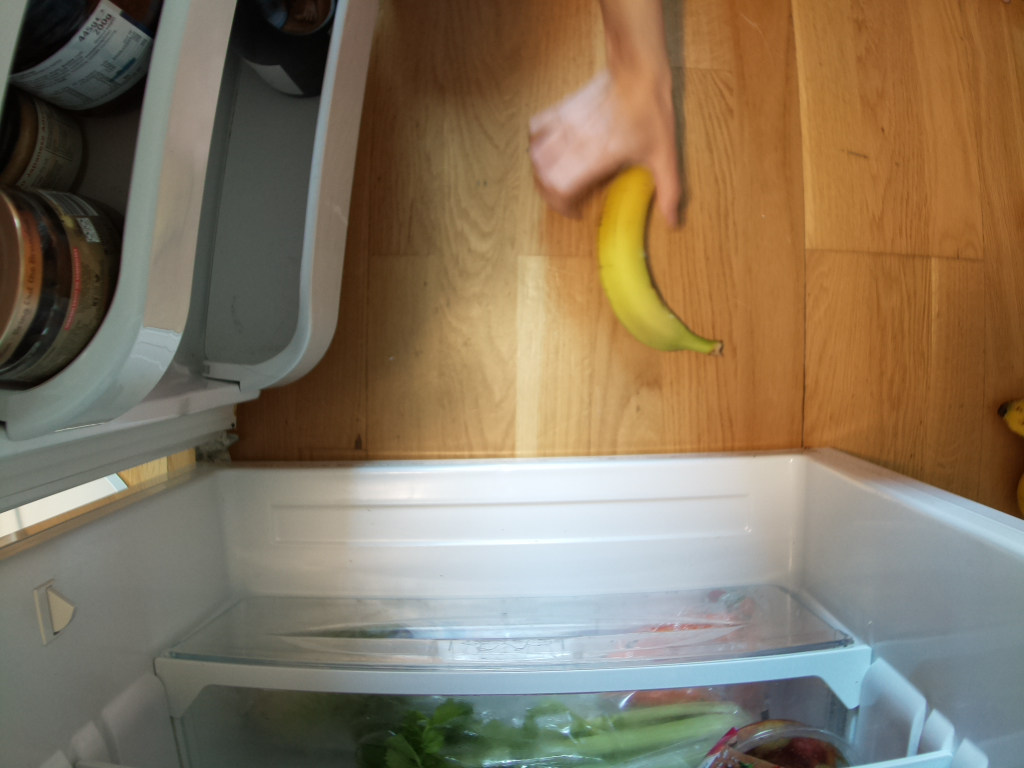banana-unripe: (601, 166, 726, 361)
